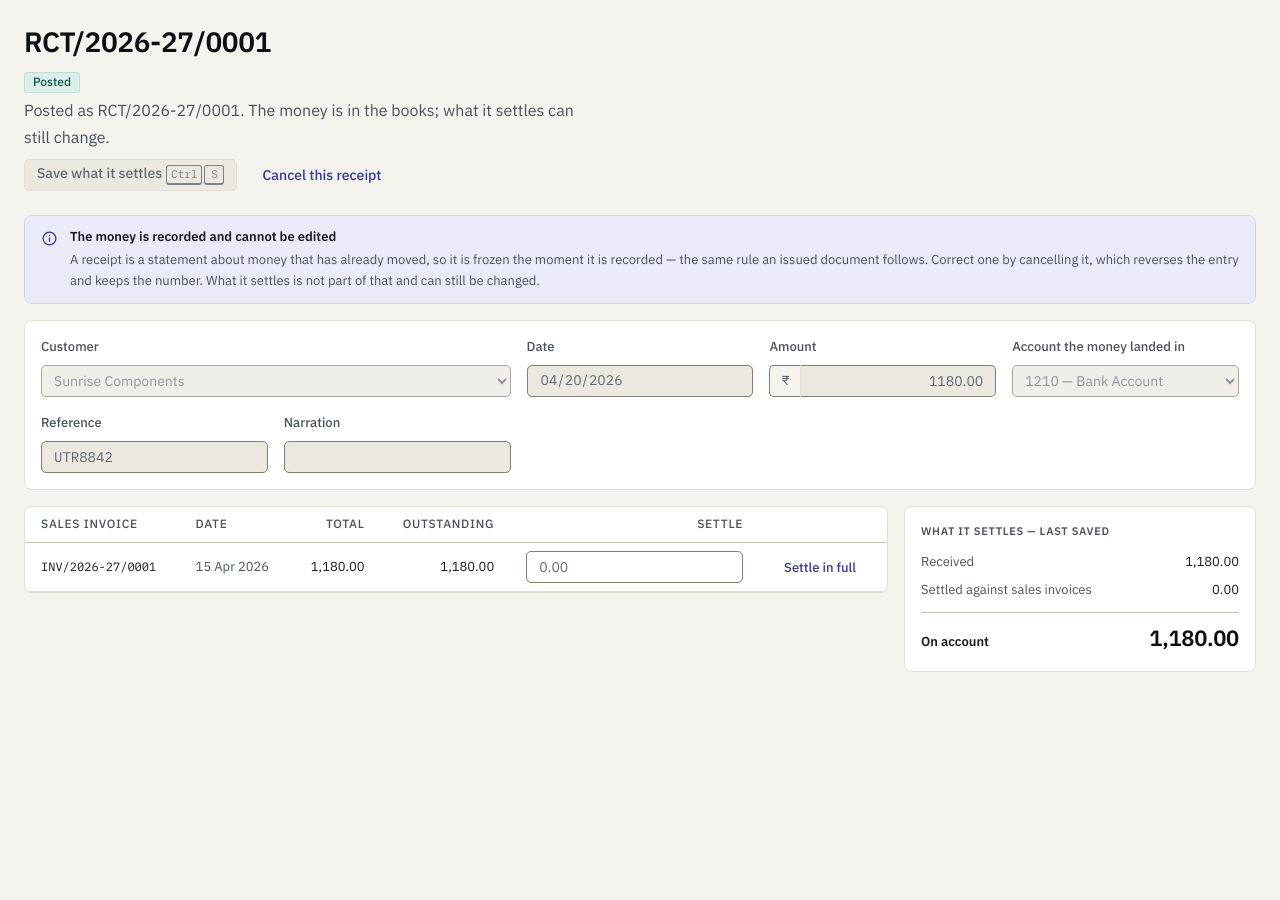
Test: the keyboard › asks before leaving with an allocation that has not been saved
Type "100.00" into the field named "Settle against" at (635,567), box [526,551,743,583]
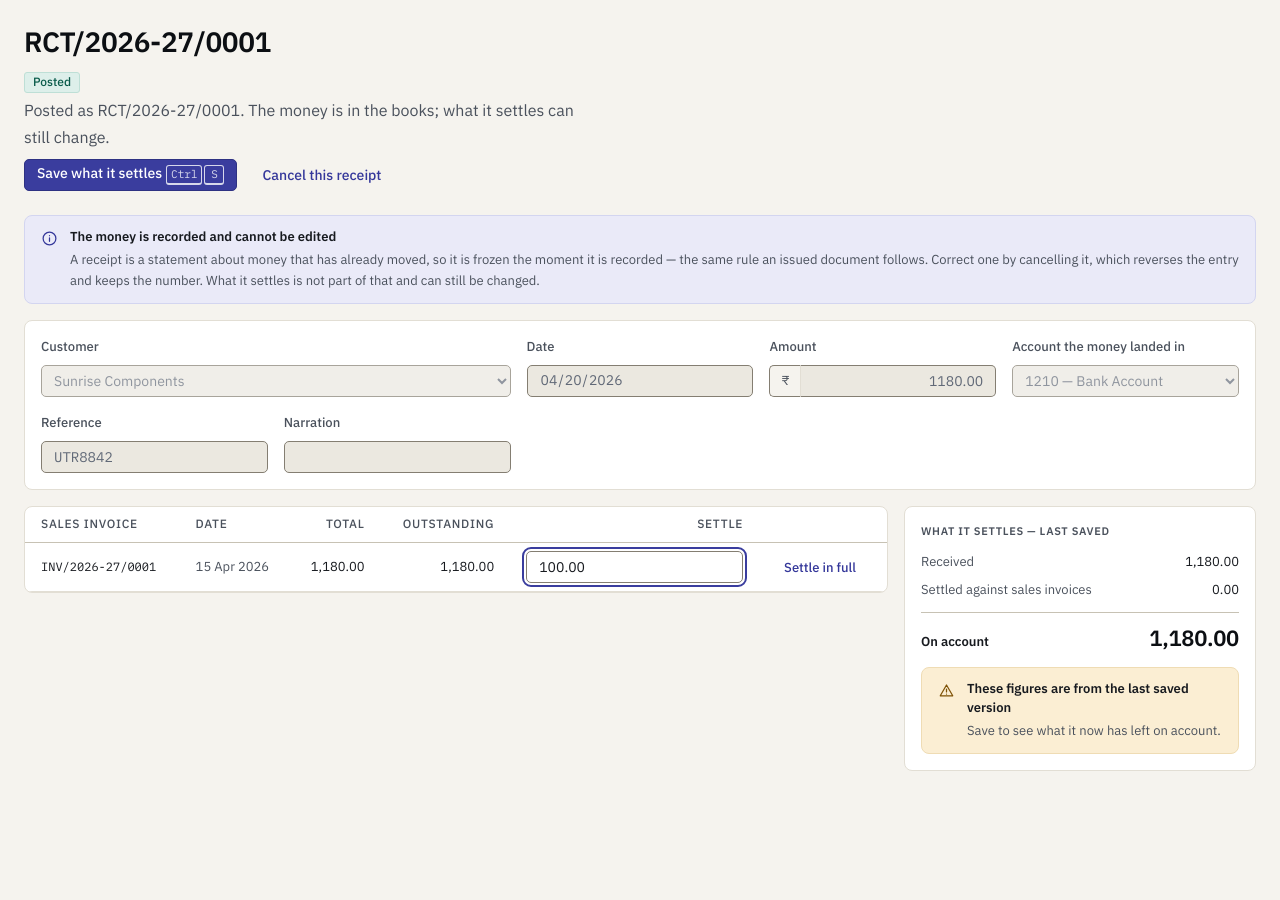
Press Escape
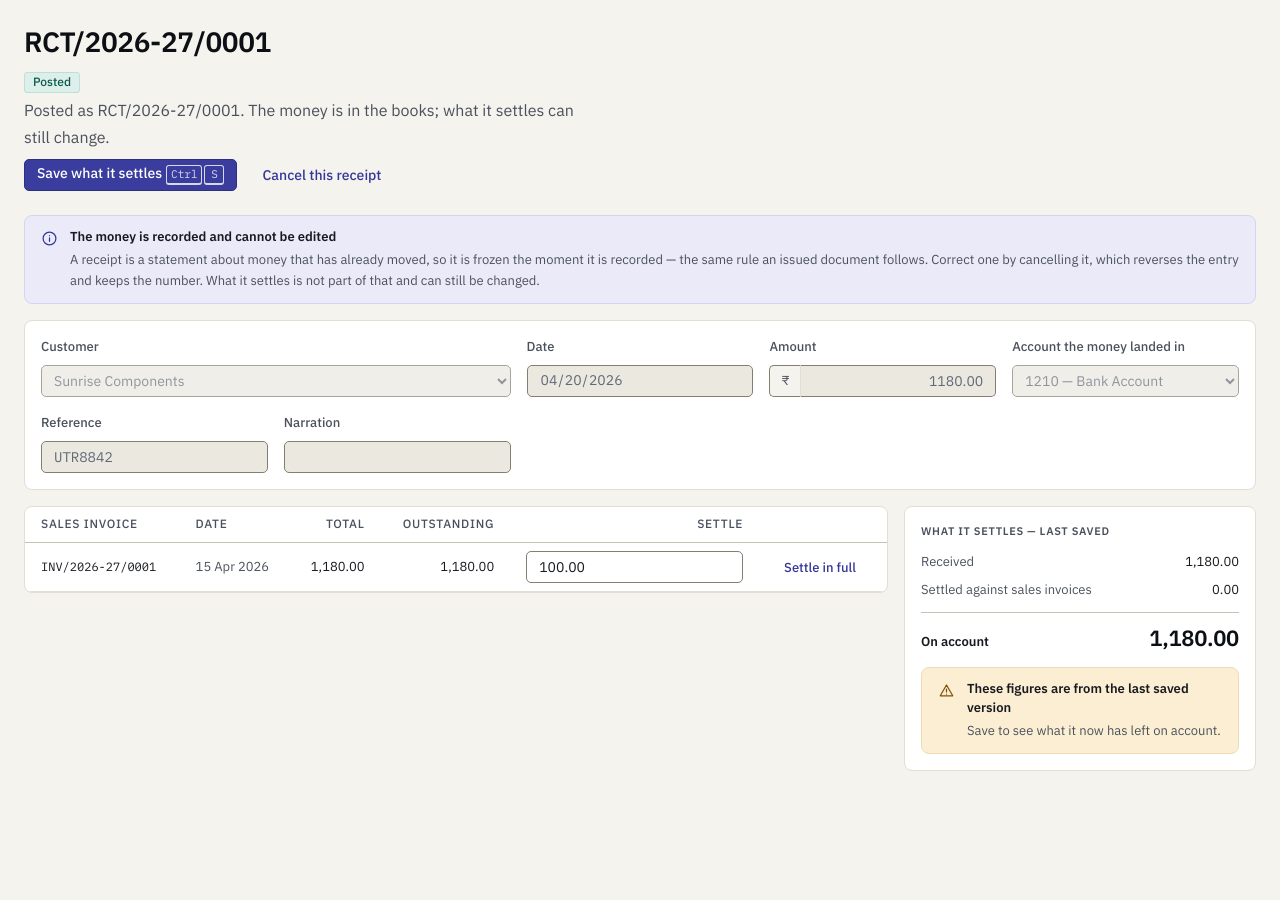
Press Escape
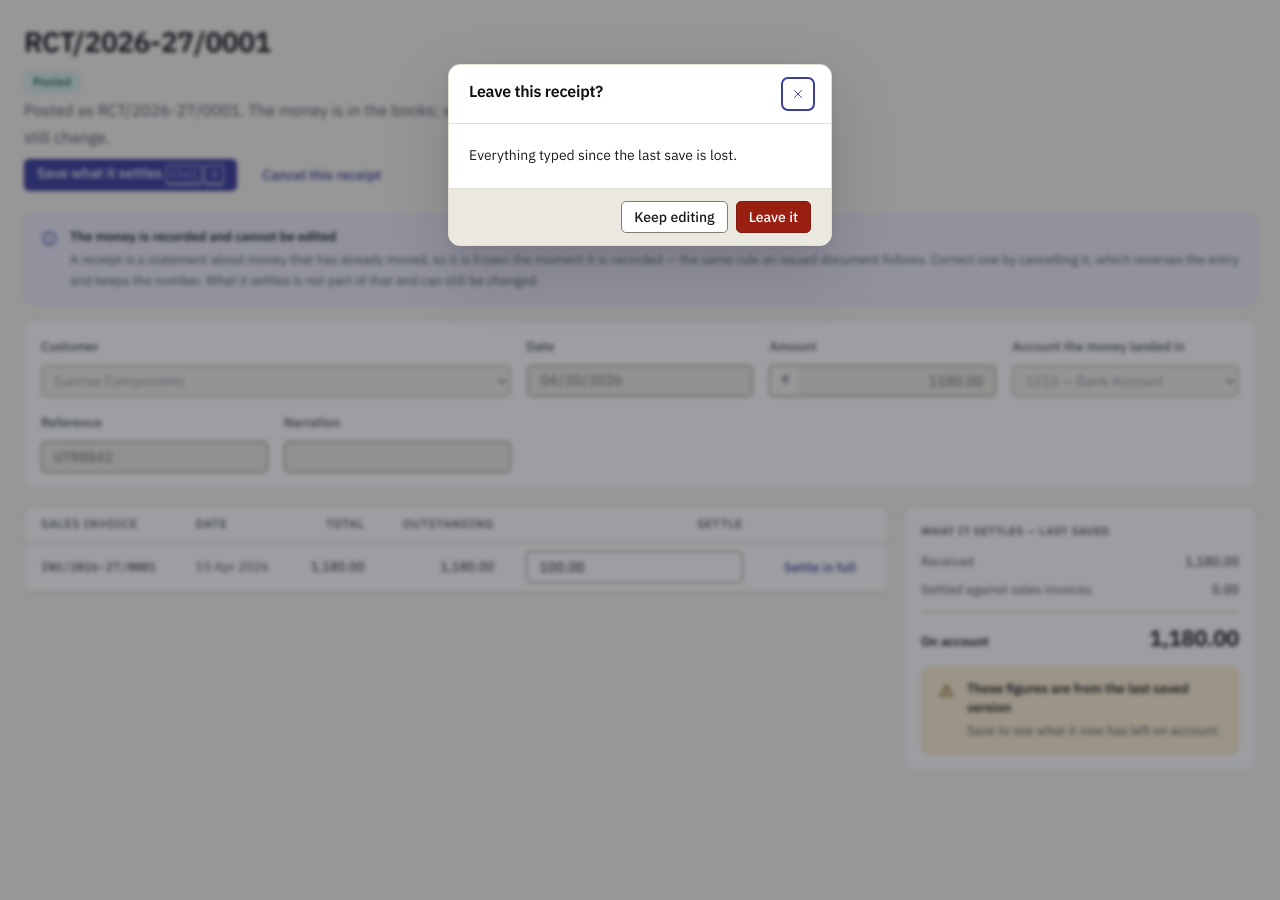
Expected: the dialog "Leave this receipt?" is shown, [448,64,832,246]
